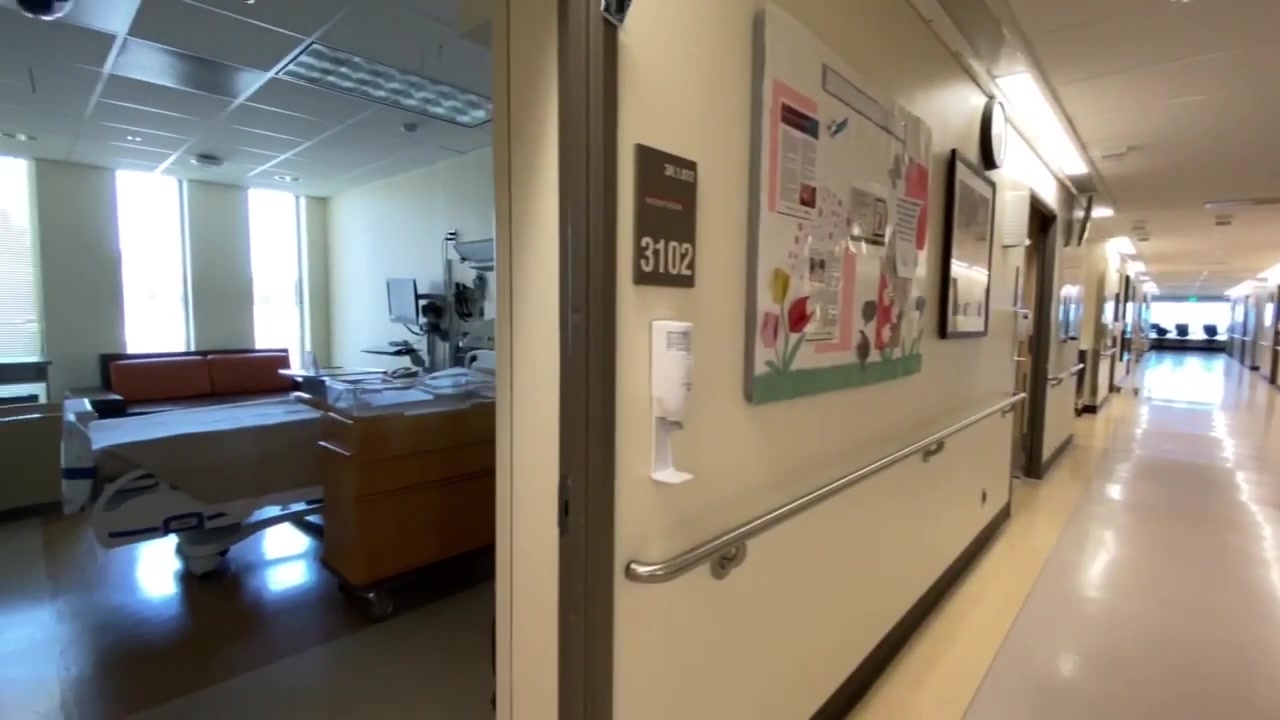bedrail: (92, 470, 323, 551)
computer: (386, 277, 419, 327)
dispenser: (648, 317, 699, 488), (1014, 306, 1033, 360)
foot_board: (57, 411, 93, 518)
hallway_assist_bar: (624, 392, 1030, 604), (1047, 363, 1085, 389)
hospital_bed: (60, 348, 495, 574)
sofa: (65, 348, 326, 419)
